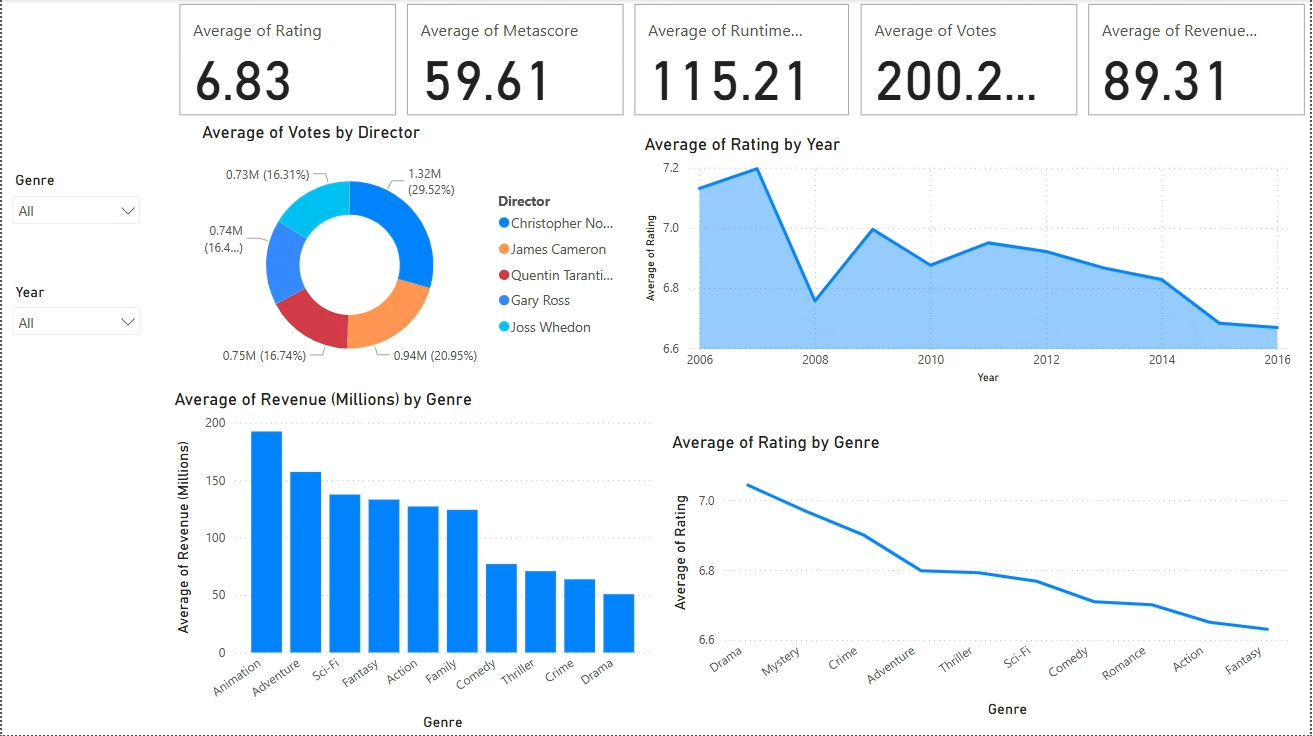

This screenshot's page, from the dashboard's own definition file:
{"tool":"powerbi","page":{"name":"Page 1","canvas":[1280,720],"ordinal":0},"visuals":[{"type":"lineChart","fields":{"Category":["IMDB-Movie-Data.Genre"],"Y":["IMDB-Movie-Data.Rating"]},"box":[650.5,423.1,615.1,284.9],"z":0},{"type":"clusteredColumnChart","fields":{"Y":["IMDB-Movie-Data.Revenue (Millions)"],"Category":["IMDB-Movie-Data.Genre"]},"box":[163.9,381.5,475.7,338.7],"z":1000},{"type":"stackedAreaChart","fields":{"Category":["IMDB-Movie-Data.Year"],"Y":["IMDB-Movie-Data.Rating"]},"box":[623.6,132.1,642,249.5],"z":2000},{"type":"donutChart","fields":{"Category":["IMDB-Movie-Data.Director"],"Y":["IMDB-Movie-Data.Votes"]},"box":[190.8,119.8,423.1,261.7],"z":3000},{"type":"cardVisual","fields":{"Data":["IMDB-Movie-Data.Votes"]},"box":[835.2,0,222.6,119.8],"z":5000},{"type":"cardVisual","fields":{"Data":["IMDB-Movie-Data.Revenue (Millions)"]},"box":[1057.8,0,222.6,119.8],"z":6000},{"type":"cardVisual","fields":{"Data":["IMDB-Movie-Data.Runtime (Minutes)"]},"box":[613.9,0,220.1,119.8],"z":7000},{"type":"cardVisual","fields":{"Data":["IMDB-Movie-Data.Metascore"]},"box":[391.3,0,222.6,119.8],"z":8000},{"type":"cardVisual","fields":{"Data":["IMDB-Movie-Data.Rating"]},"box":[168.8,0,222.6,119.8],"z":9000},{"type":"slicer","fields":{"Values":["IMDB-Movie-Data.Genre"]},"box":[0,163.9,145.5,86.8],"z":10000},{"type":"slicer","fields":{"Values":["IMDB-Movie-Data.Year"]},"box":[0,272.7,145.5,86.8],"z":11000}]}

Visuals, with their boxes in screenshot pixels (x1, y1, x2, y2), scaled from the page's 1280x720 canvas onto the 1313x736 screenshot:
lineChart - IMDB-Movie-Data.Genre x IMDB-Movie-Data.Rating: (x1=667, y1=433, x2=1298, y2=724)
clusteredColumnChart - IMDB-Movie-Data.Revenue (Millions) x IMDB-Movie-Data.Genre: (x1=168, y1=390, x2=656, y2=735)
stackedAreaChart - IMDB-Movie-Data.Year x IMDB-Movie-Data.Rating: (x1=640, y1=135, x2=1298, y2=390)
donutChart - IMDB-Movie-Data.Director x IMDB-Movie-Data.Votes: (x1=196, y1=122, x2=630, y2=390)
cardVisual - IMDB-Movie-Data.Votes: (x1=857, y1=0, x2=1085, y2=122)
cardVisual - IMDB-Movie-Data.Revenue (Millions): (x1=1085, y1=0, x2=1312, y2=122)
cardVisual - IMDB-Movie-Data.Runtime (Minutes): (x1=630, y1=0, x2=856, y2=122)
cardVisual - IMDB-Movie-Data.Metascore: (x1=401, y1=0, x2=630, y2=122)
cardVisual - IMDB-Movie-Data.Rating: (x1=173, y1=0, x2=401, y2=122)
slicer - IMDB-Movie-Data.Genre: (x1=0, y1=168, x2=149, y2=256)
slicer - IMDB-Movie-Data.Year: (x1=0, y1=279, x2=149, y2=367)
